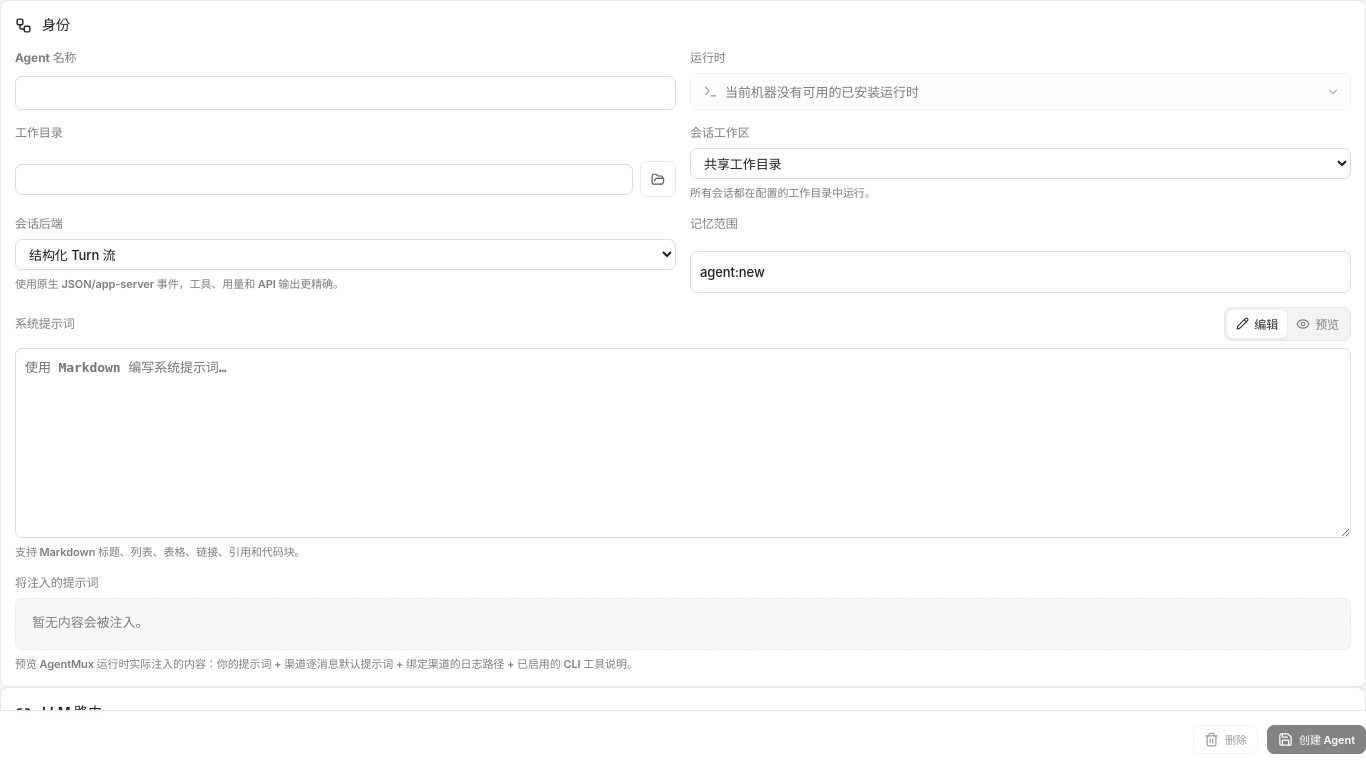
Test case: shows directory load failures inside the browser dialog
Click the button named "选择目录" at (658, 179), box [640, 161, 676, 197]
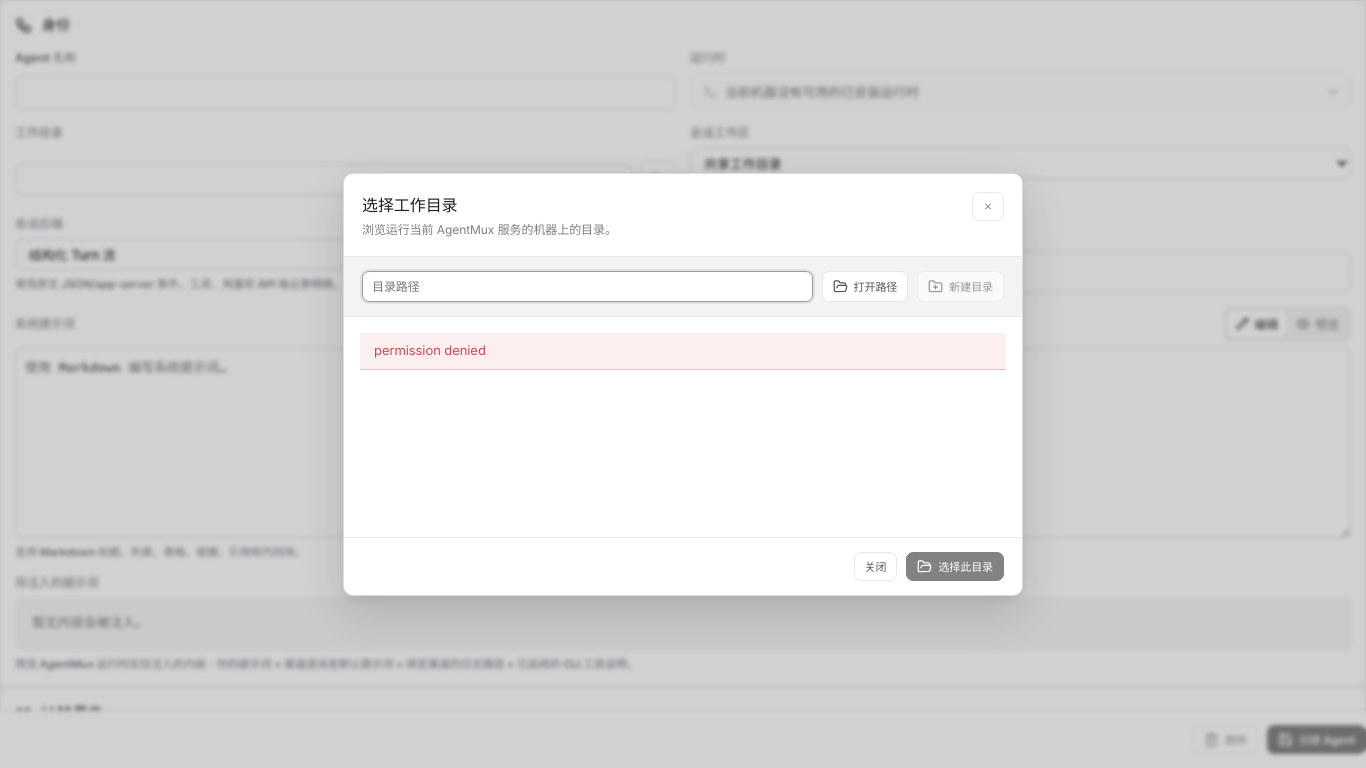
Expected: the dialog shows "permission denied", [374, 342, 486, 358]
Expected: the button "选择此目录" is disabled, [906, 552, 1004, 580]
